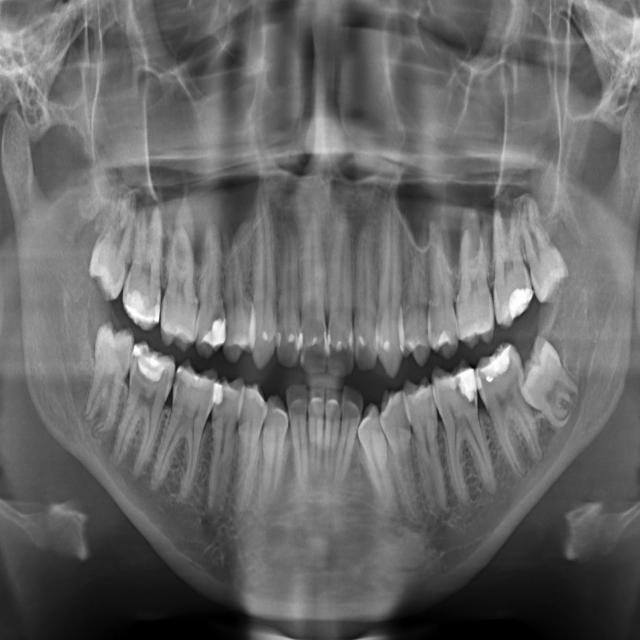CompositeResinRestoration: (478, 342, 510, 383), (125, 288, 156, 325), (136, 351, 168, 386), (508, 284, 532, 315), (206, 316, 227, 346), (458, 368, 480, 396), (213, 379, 225, 400), (276, 321, 284, 352)
Crown: (132, 340, 147, 358)
DentalCaries: (173, 369, 190, 402), (163, 363, 177, 398), (424, 386, 438, 419), (224, 311, 236, 345), (152, 280, 162, 312), (460, 393, 479, 409), (212, 402, 224, 427), (213, 301, 224, 324)
